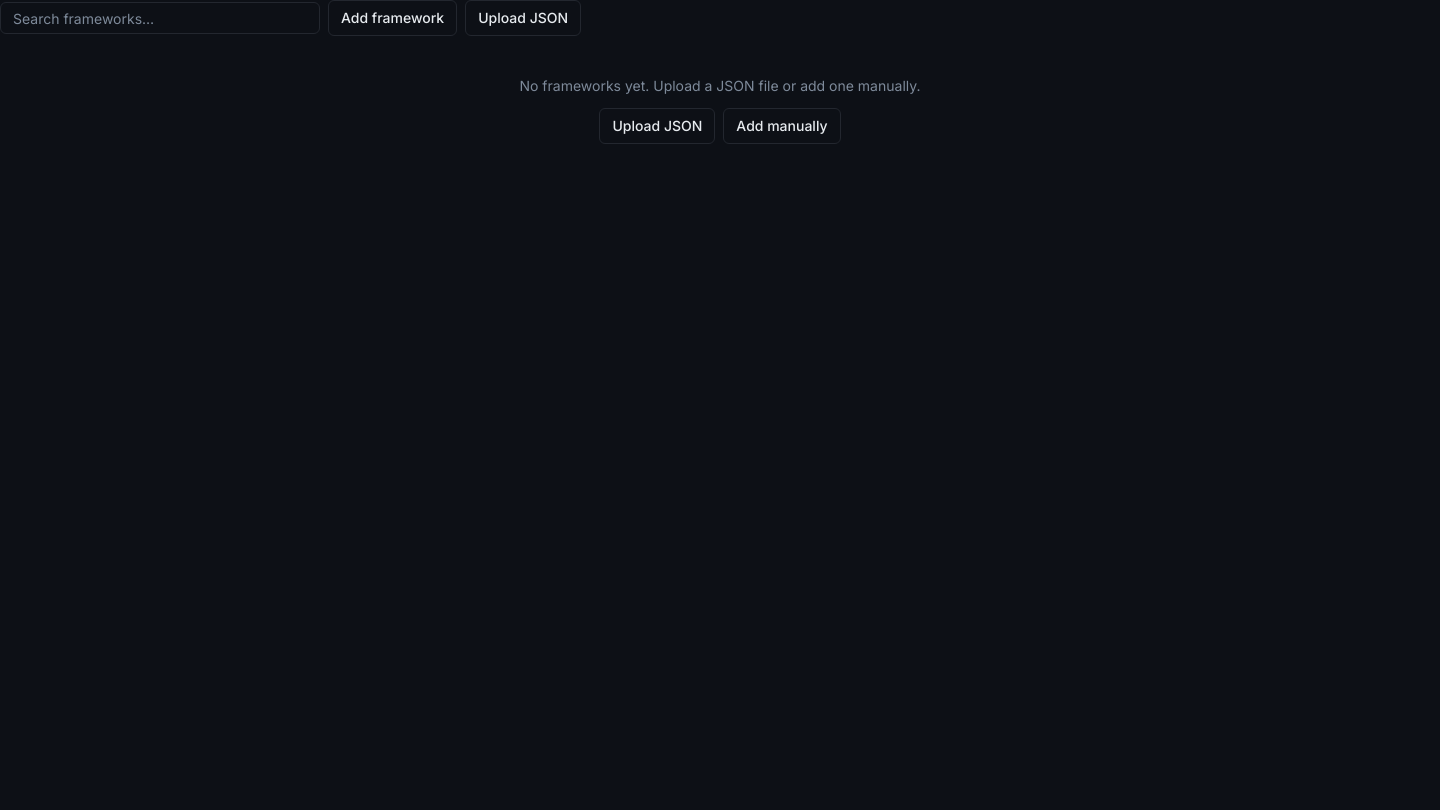
FrameworkLibraryTab — KIN-320 (edit, add, upload) › add manually › successful create appends new framework row to table
Expected: the text "No frameworks yet. Upload a JSON file or add one manually." is shown, [520,77,921,94]
Step 1. Click the button "Add manually" → x=782, y=126, box [723,108,841,144]
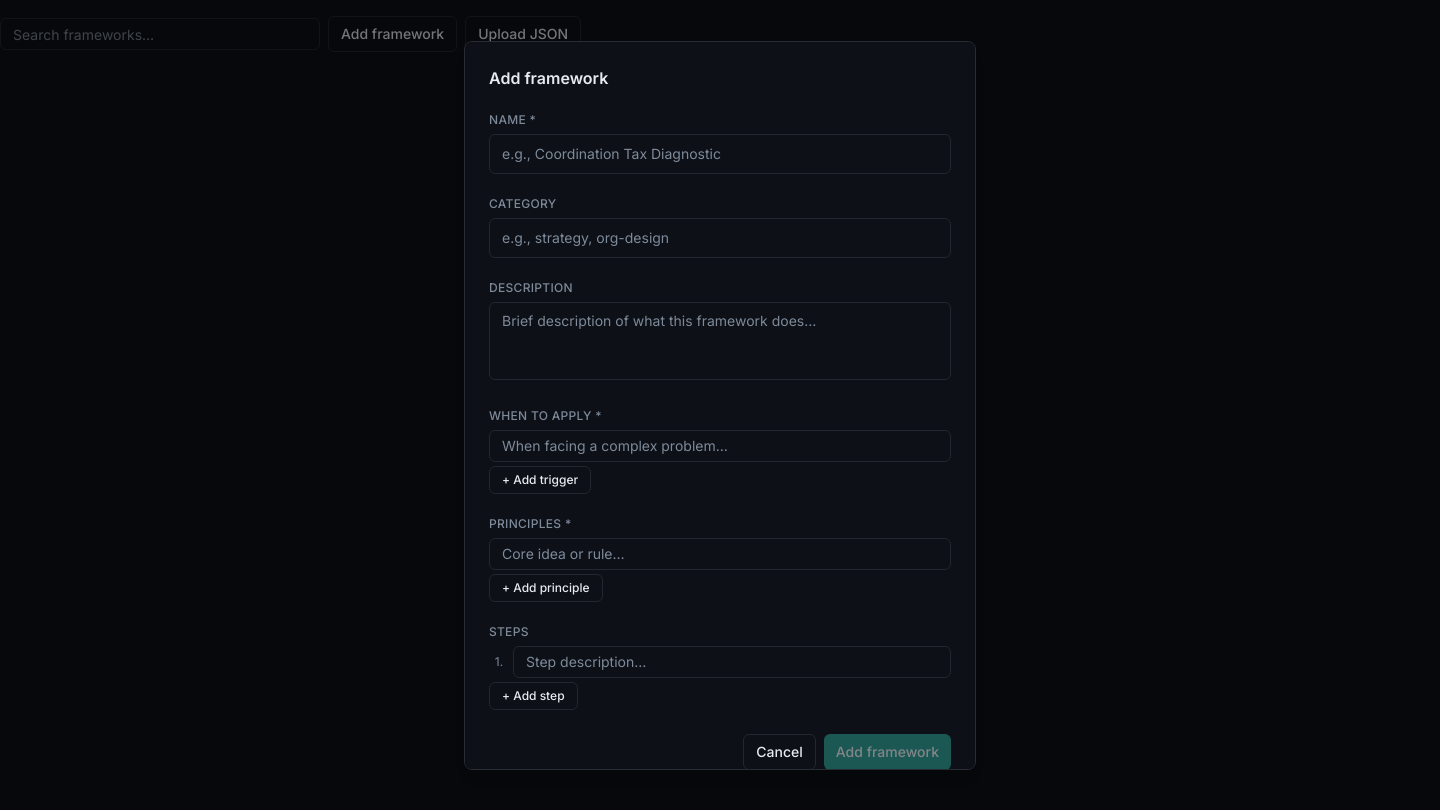
Step 2. Type "New Framework" into the field with placeholder "e.g., Coordination Tax Diagnostic" → x=720, y=154, box [489,134,951,174]
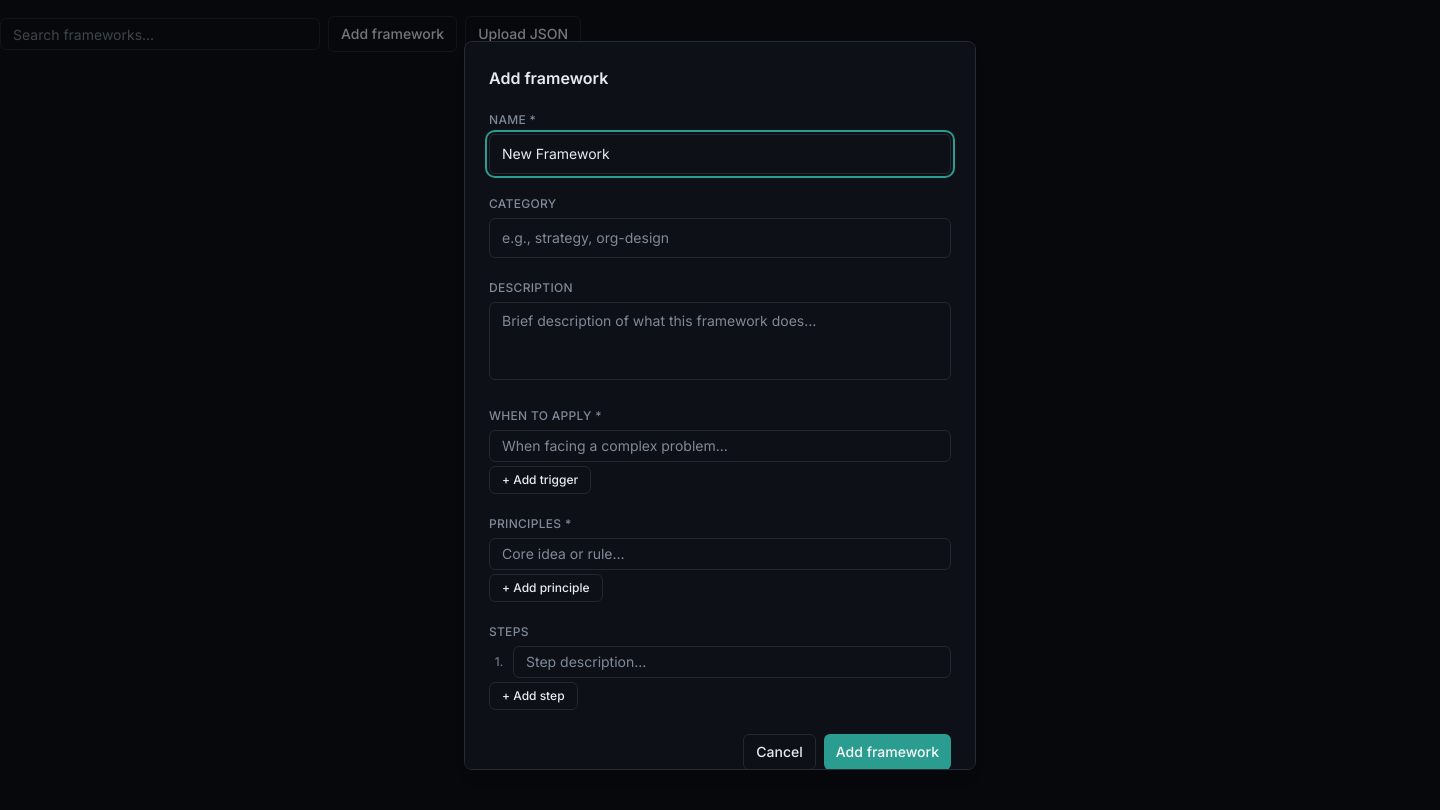
Step 3. Type "when starting fresh" into the field with placeholder "When facing a complex problem…" → x=720, y=446, box [489,430,951,462]
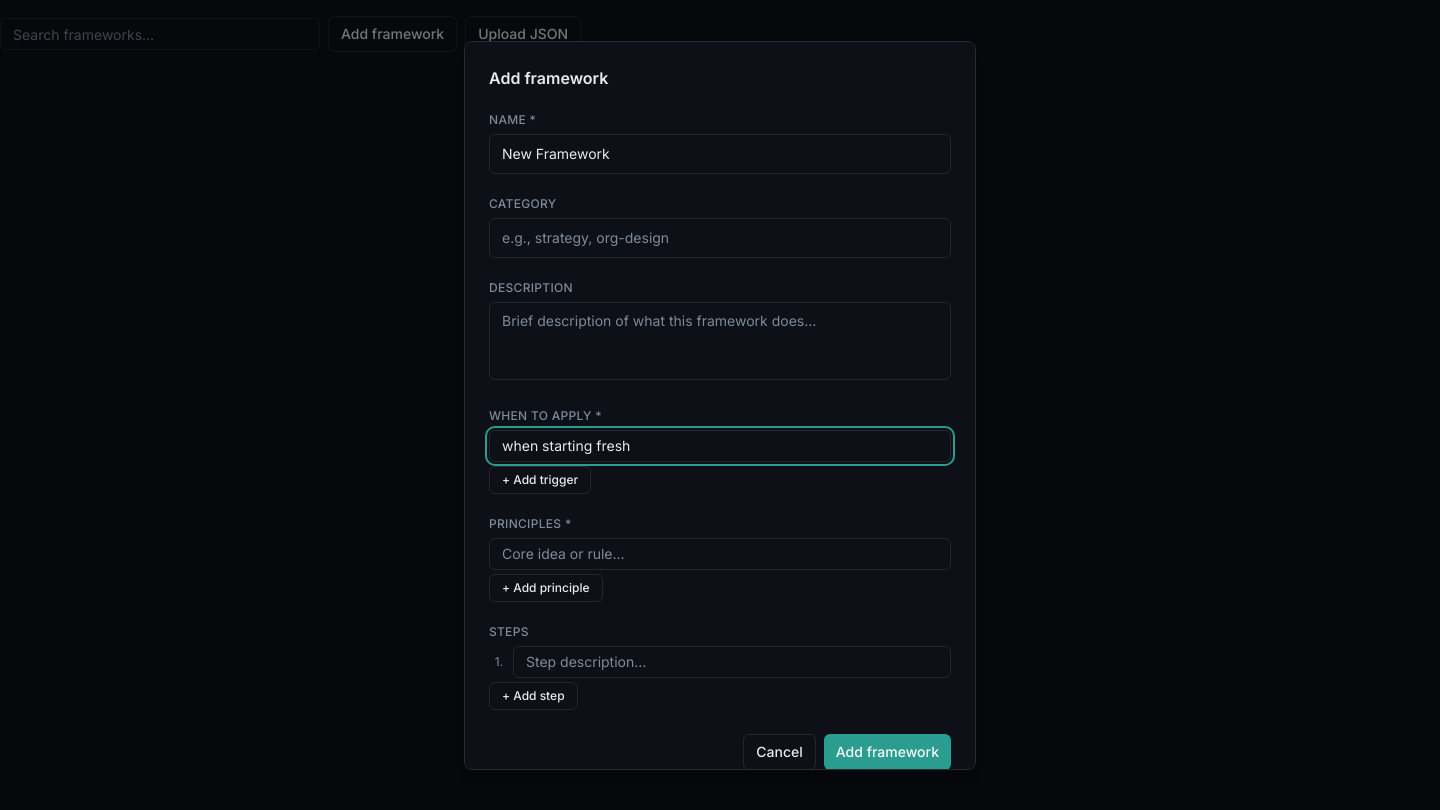
// Modal save button is index 0 (modal renders before controls bar in JSX)
Step 4. Click the button "Add framework" → x=887, y=752, box [824,734,951,770]
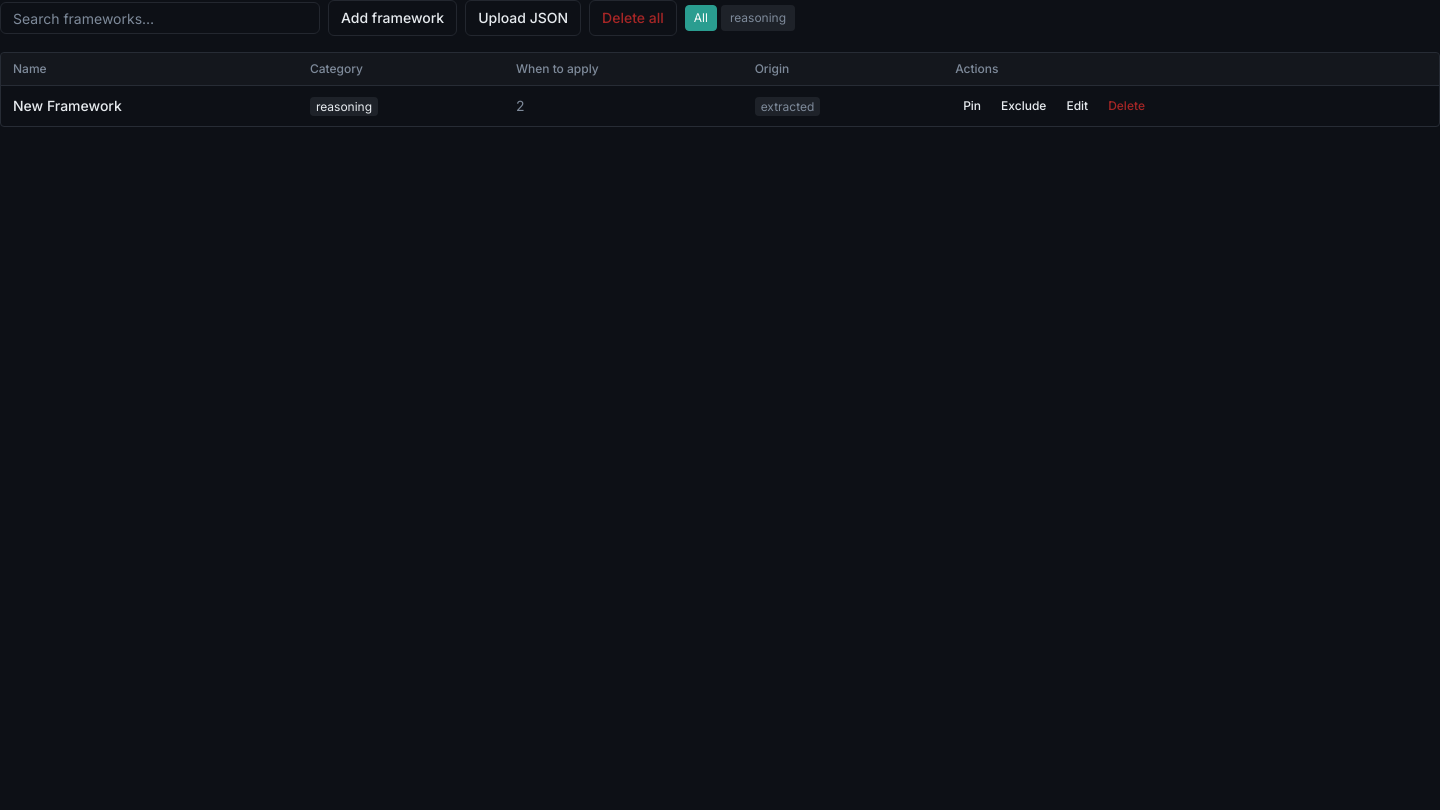
Expected: the text "New Framework" is shown, [13,97,122,114]
